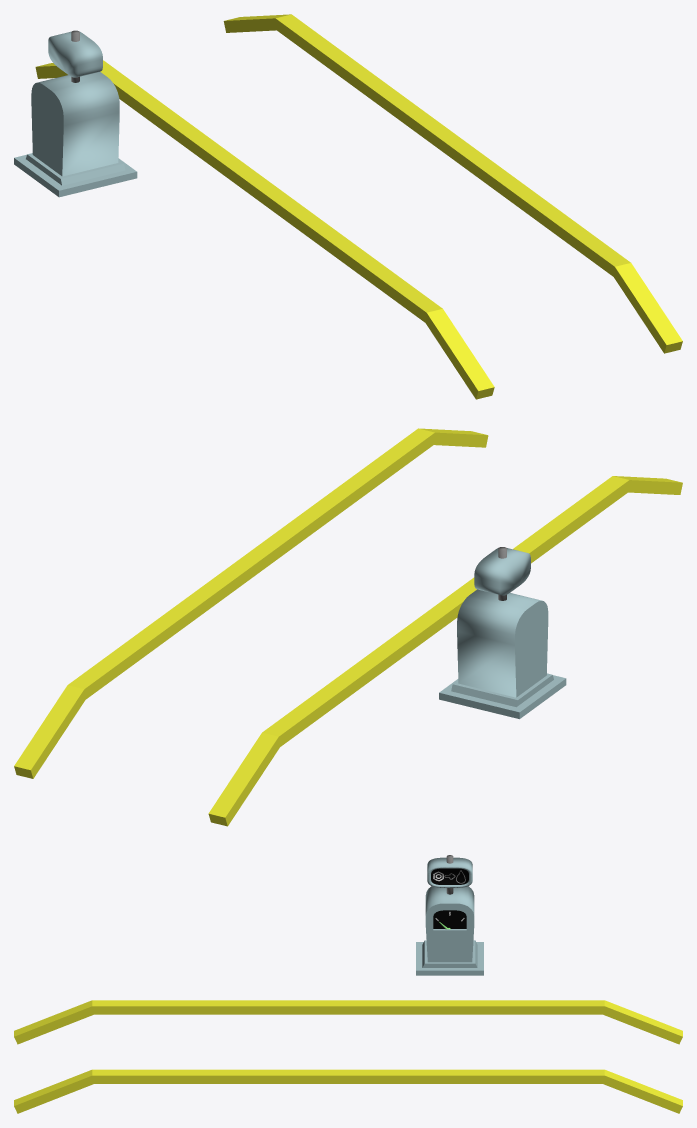
Rendered from GasPump.fbx.
3 renders of one model, top to bottom at view 1: azimuth 30°, elevation 25°; view 2: azimuth 150°, elevation 25°; view 3: azimuth 270°, elevation 25°, orthographic. The views are drawn at different scales.
Visible parts, largest first — view 1: GroundMarks, GasPump, GasPumpScreen; view 2: GroundMarks, GasPump, GasPumpScreen; view 3: GroundMarks, GasPump, GasPumpScreen.
Part boxes in pixels (x1=…): GroundMarks: x1=35, y1=14, x2=682, y2=399; GasPump: x1=14, y1=72, x2=137, y2=197; GasPumpScreen: x1=48, y1=31, x2=102, y2=77; GroundMarks: x1=14, y1=428, x2=682, y2=826; GasPump: x1=439, y1=589, x2=566, y2=719; GasPumpScreen: x1=474, y1=548, x2=530, y2=595; GroundMarks: x1=14, y1=1000, x2=682, y2=1113; GasPump: x1=416, y1=886, x2=483, y2=975; GasPumpScreen: x1=427, y1=857, x2=472, y2=887.
Size of the model in its own units: 16.78 by 35.99 by 8.32.
